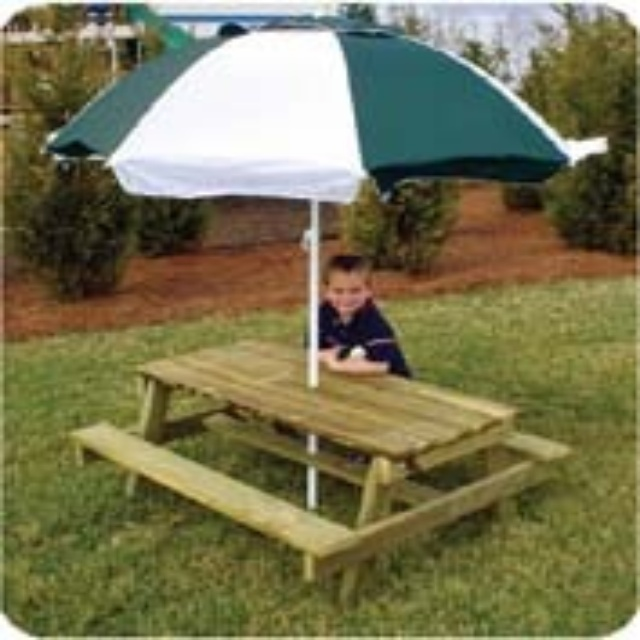obstacle: (58, 339, 575, 608)
